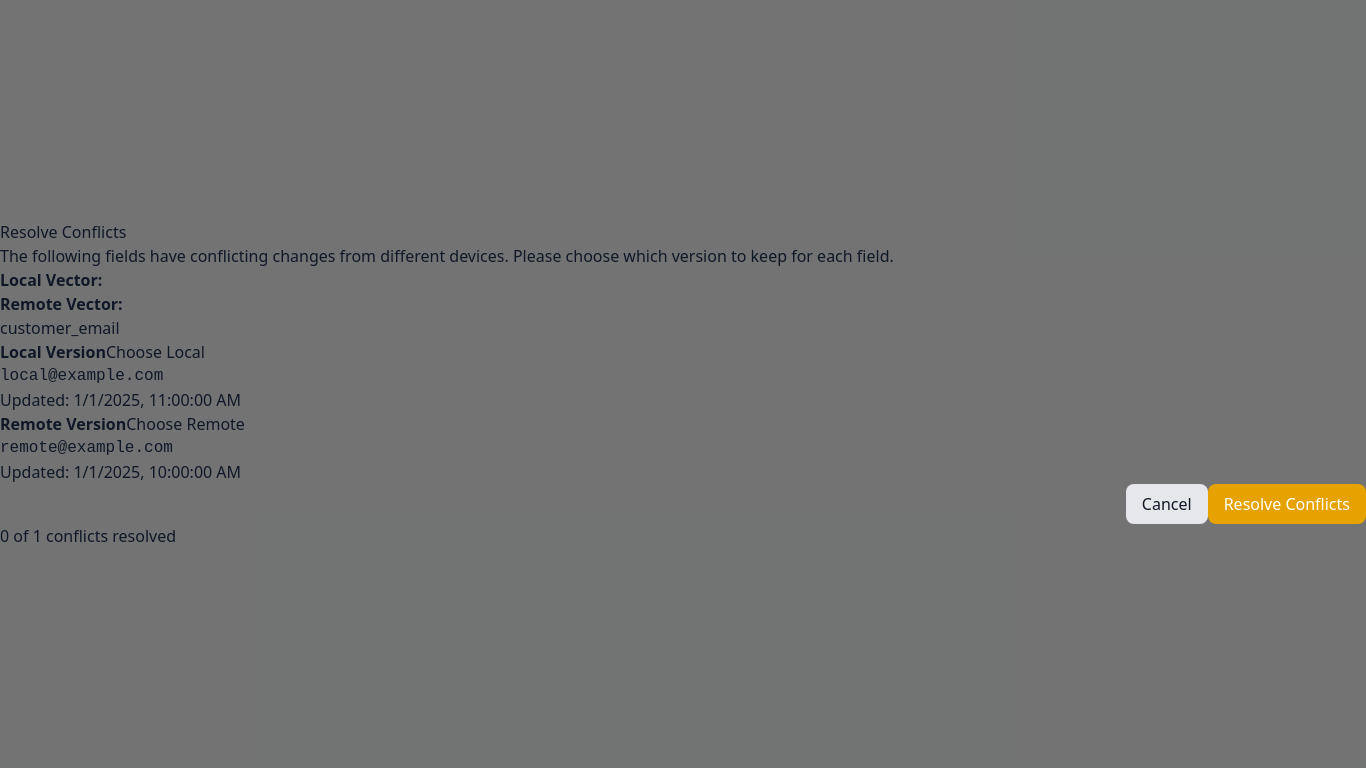
ConflictResolutionModal › Interaction › should allow selecting remote version
The width and height of the screenshot is (1366, 768).
# Click "Choose Remote" button
What coordinates should you click on to do the following:
click the button "Choose Remote"
I would click on:
 (186, 424)
Its box is [126,412,245,436].
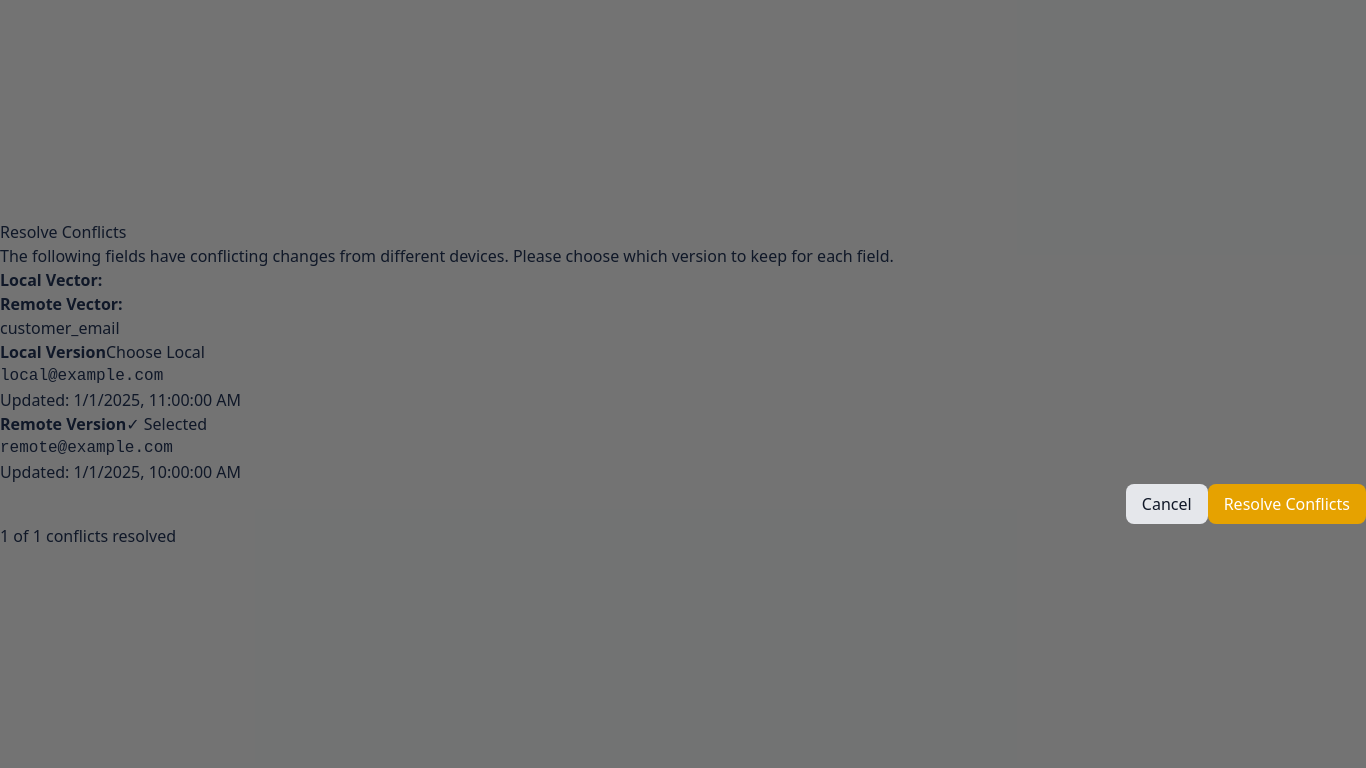
Check: the button "✓ Selected" is shown, box [126,412,207,436]
